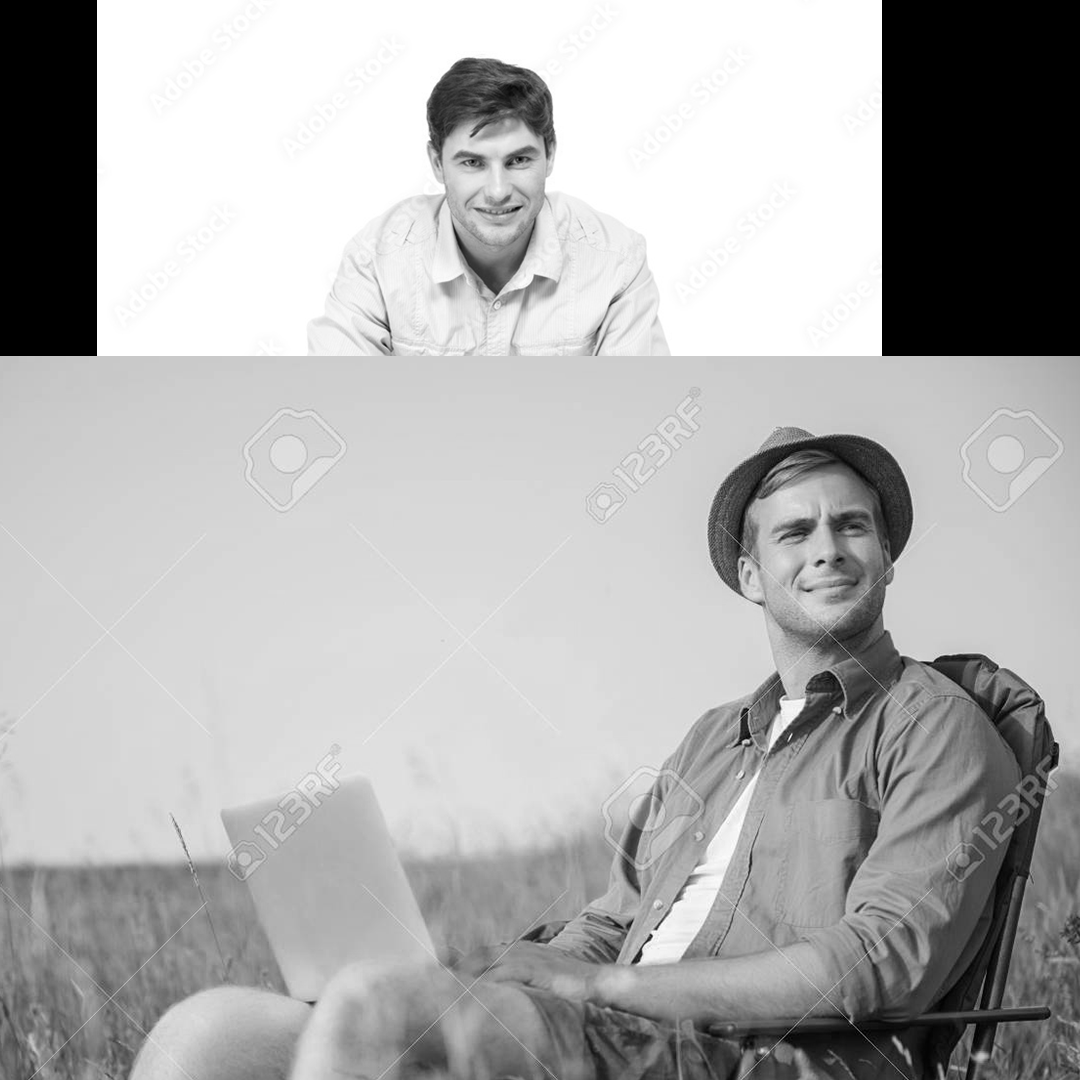Focused: (336, 54, 615, 368)
distracted: (616, 417, 973, 941)
